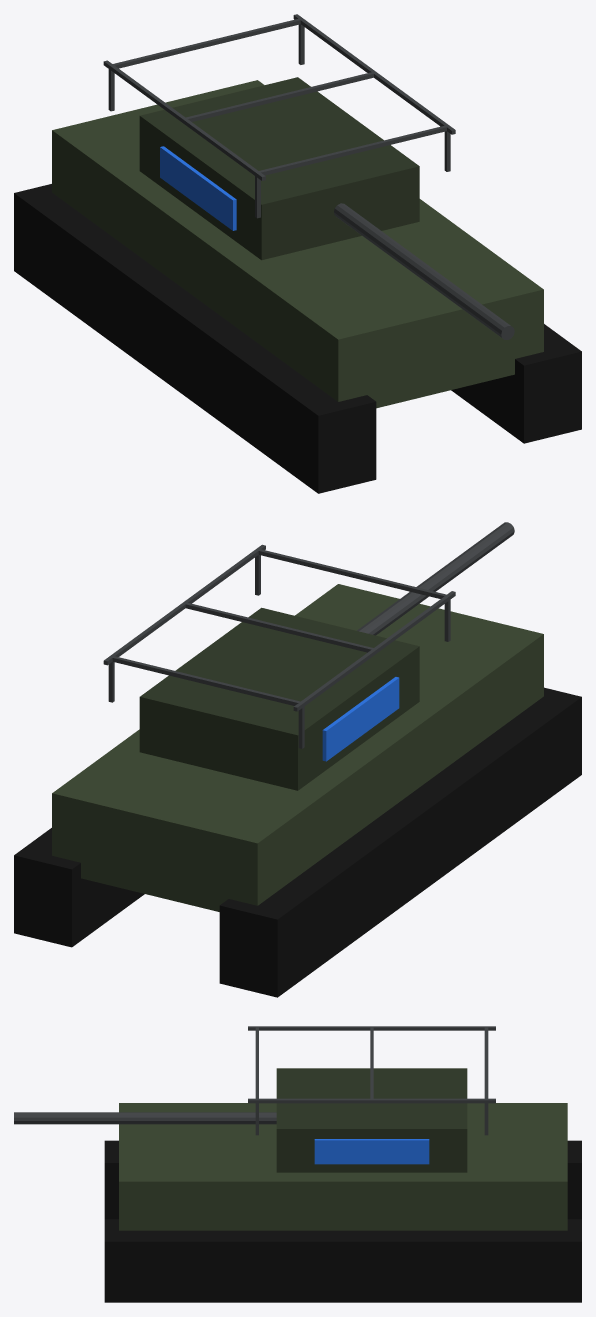
Rendered from ru_mbt.glb.
3 renders of one model, top to bottom at view 1: azimuth 30°, elevation 25°; view 2: azimuth 150°, elevation 25°; view 3: azimuth 270°, elevation 25°, orthographic. The views are drawn at different scales.
Visible parts, largest first — view 1: hull, track_l, turret, track_r, barrel, team_panel_l, cage_rail_0, cage_rail_1, cage_bar_2, cage_bar_1, cage_bar_0; view 2: hull, track_l, turret, track_r, barrel, team_panel_l, cage_rail_0, cage_rail_1, cage_bar_1, cage_bar_0, cage_bar_2; view 3: hull, track_r, turret, barrel, team_panel_r, track_l, cage_rail_1, cage_rail_0.
Part boxes in pixels (bbox=[...]): hull: bbox=[52, 80, 543, 408]; track_l: bbox=[14, 184, 376, 493]; turret: bbox=[139, 77, 419, 260]; track_r: bbox=[451, 324, 581, 443]; barrel: bbox=[334, 203, 514, 339]; team_panel_l: bbox=[160, 146, 236, 230]; cage_rail_0: bbox=[103, 60, 265, 180]; cage_rail_1: bbox=[293, 14, 455, 134]; cage_bar_2: bbox=[112, 18, 302, 68]; cage_bar_1: bbox=[184, 71, 374, 121]; cage_bar_0: bbox=[258, 125, 446, 175]; hull: bbox=[52, 584, 543, 911]; track_l: bbox=[219, 687, 581, 997]; turret: bbox=[139, 607, 419, 790]; track_r: bbox=[14, 828, 144, 947]; barrel: bbox=[357, 522, 514, 635]; team_panel_l: bbox=[322, 677, 399, 761]; cage_rail_0: bbox=[293, 591, 455, 711]; cage_rail_1: bbox=[103, 544, 265, 665]; cage_bar_1: bbox=[184, 602, 374, 652]; cage_bar_0: bbox=[257, 549, 447, 598]; cage_bar_2: bbox=[111, 656, 301, 705]; hull: bbox=[119, 1103, 567, 1230]; track_r: bbox=[104, 1219, 581, 1302]; turret: bbox=[276, 1068, 467, 1172]; barrel: bbox=[14, 1112, 276, 1124]; team_panel_r: bbox=[314, 1139, 429, 1164]; track_l: bbox=[104, 1140, 581, 1219]; cage_rail_1: bbox=[248, 1098, 495, 1103]; cage_rail_0: bbox=[248, 1026, 495, 1030].
Bounding box in the file's own units: 3.5 × 3.06 × 8.33.
